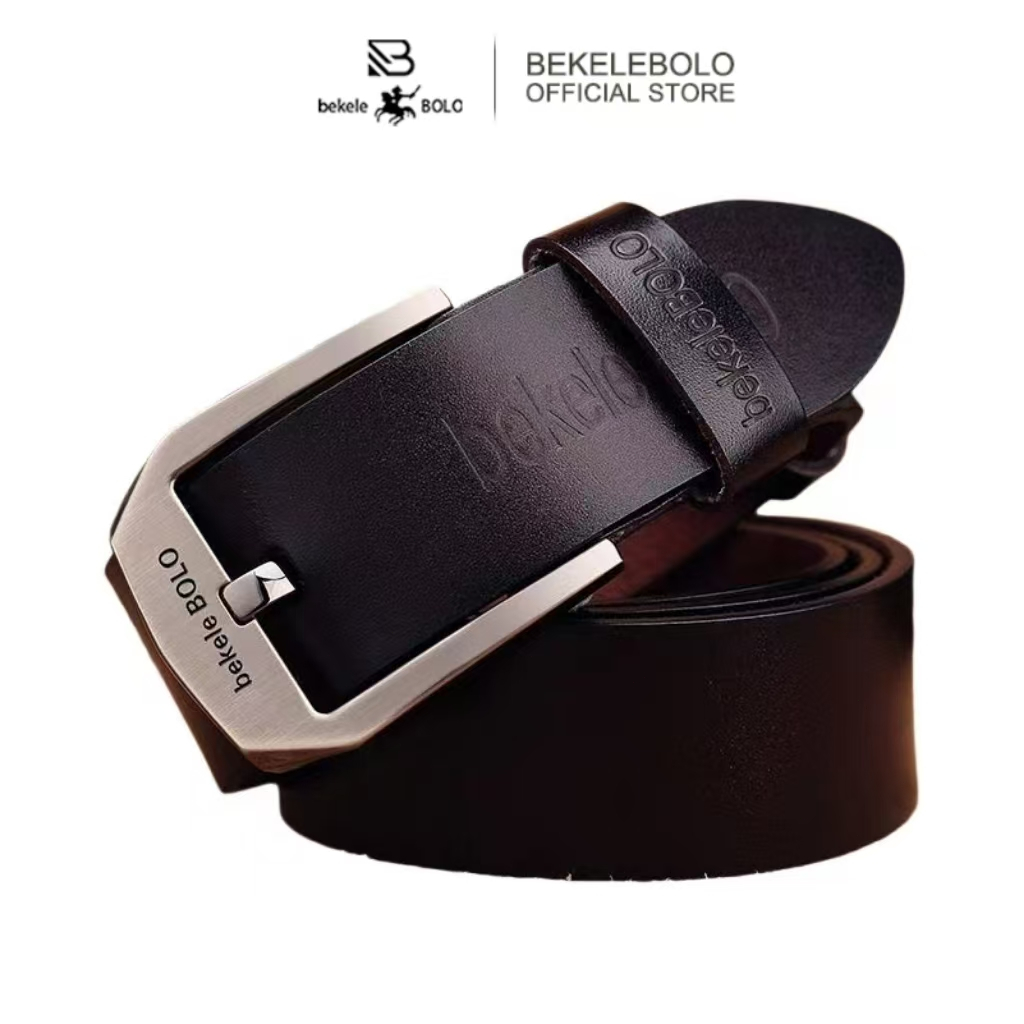sabuk_ada: (148, 201, 947, 851)
